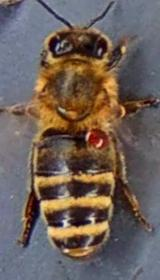varroa_mite: (76, 122, 116, 155)
